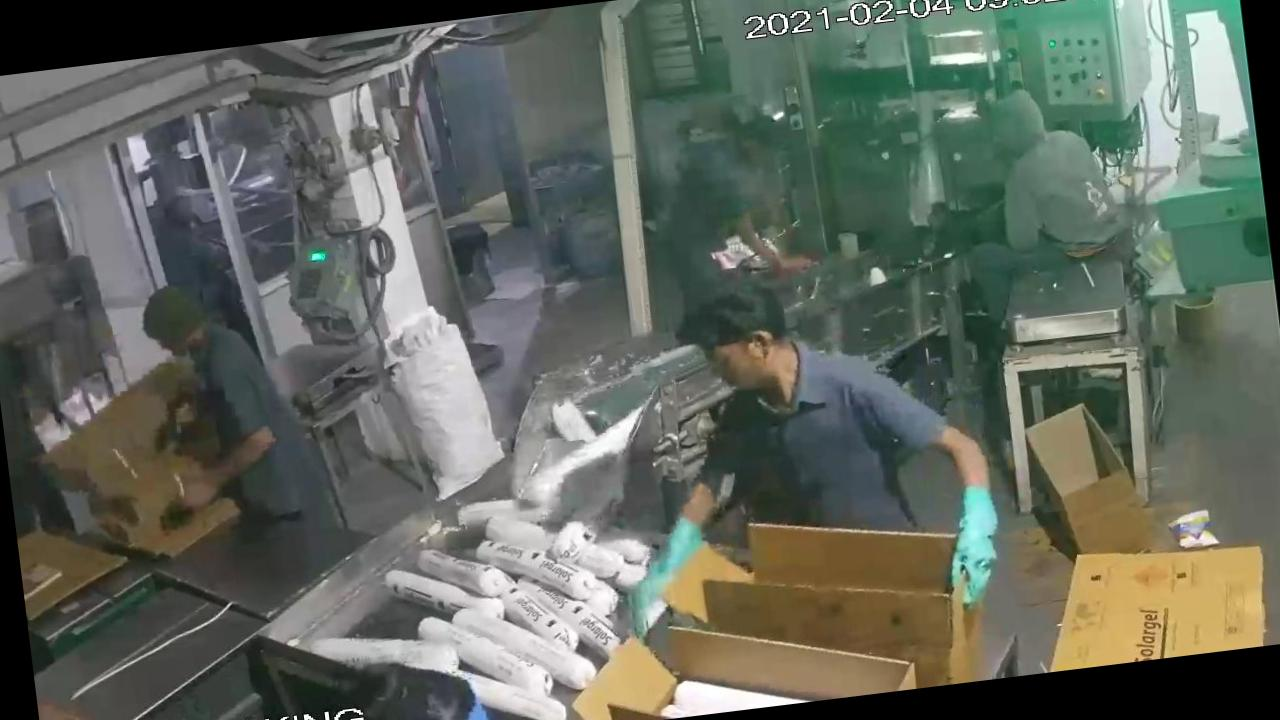Gloves: (586, 500, 744, 652), (926, 466, 1023, 626)
No-gloves: (153, 408, 290, 520), (714, 188, 834, 281)
